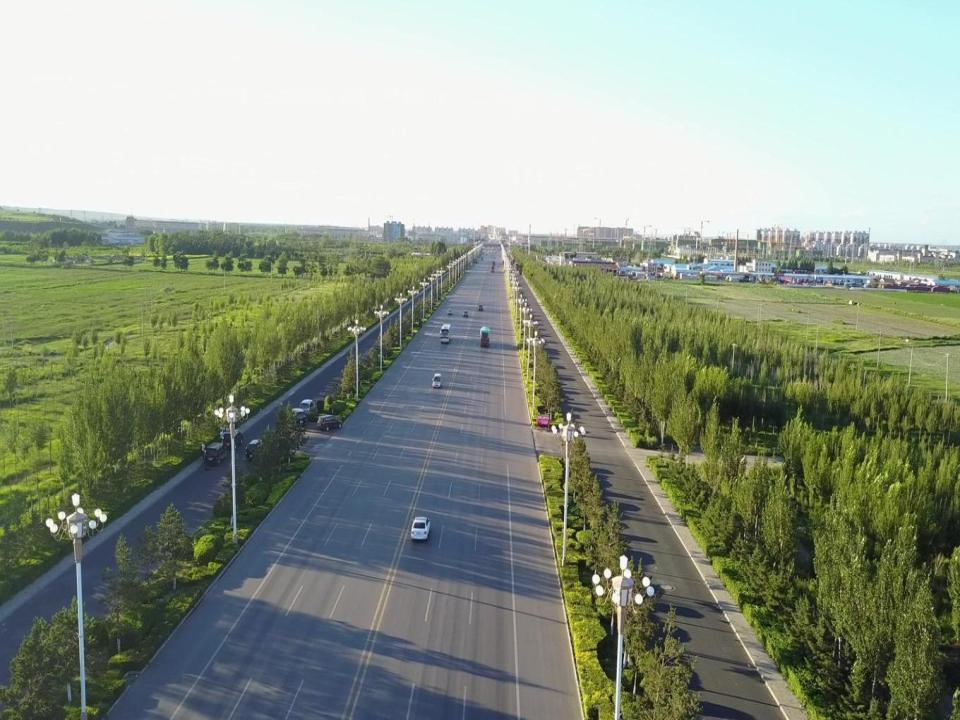bus: (439, 323, 452, 343)
car: (204, 441, 228, 466), (410, 516, 431, 541), (222, 428, 244, 450), (316, 414, 342, 432), (285, 407, 307, 427), (446, 308, 453, 315), (478, 303, 483, 312), (462, 310, 468, 317)
truck: (479, 326, 491, 347)
van: (245, 438, 267, 462), (297, 398, 316, 416), (431, 373, 443, 388)
